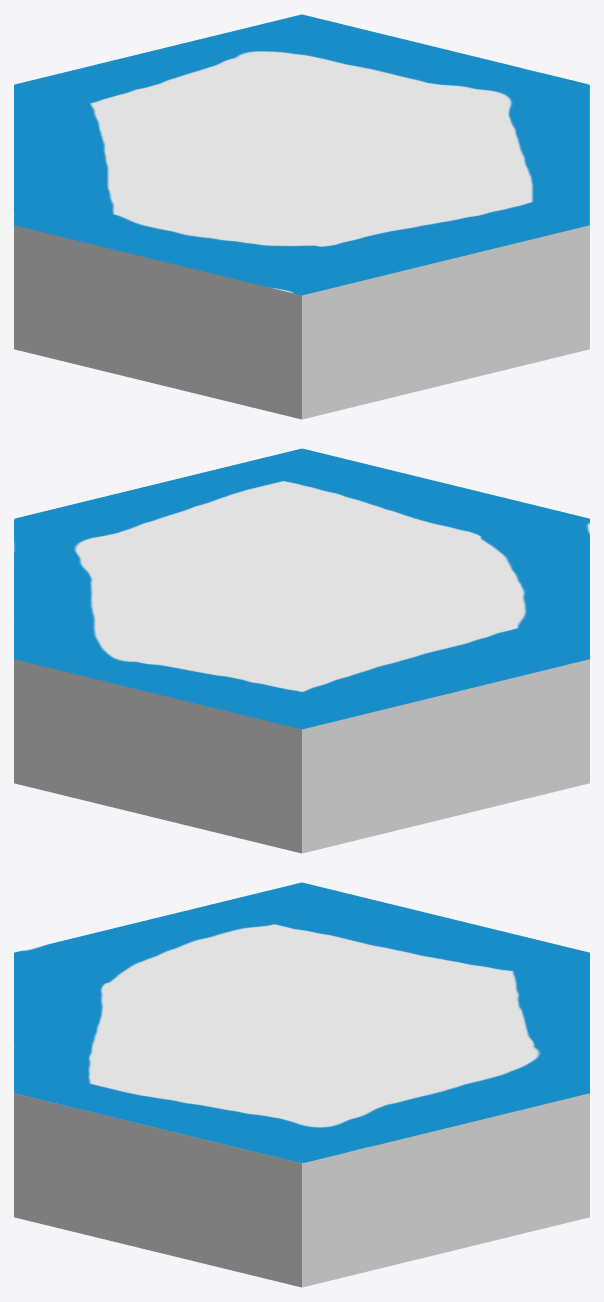
File: HexTile.fbx
The picture shows the model from 3 angles, top to bottom: view 1: azimuth 30°, elevation 25°; view 2: azimuth 150°, elevation 25°; view 3: azimuth 270°, elevation 25°; orthographic projection.
Visible parts, largest first — view 1: Cylinder; view 2: Cylinder; view 3: Cylinder.
Part boxes in pixels (left/top/right/bottom): Cylinder: left=14, top=14, right=589, bottom=419; Cylinder: left=14, top=448, right=589, bottom=853; Cylinder: left=14, top=882, right=589, bottom=1287.
Size of the model in its own units: 2 by 1.73 by 0.4117.
